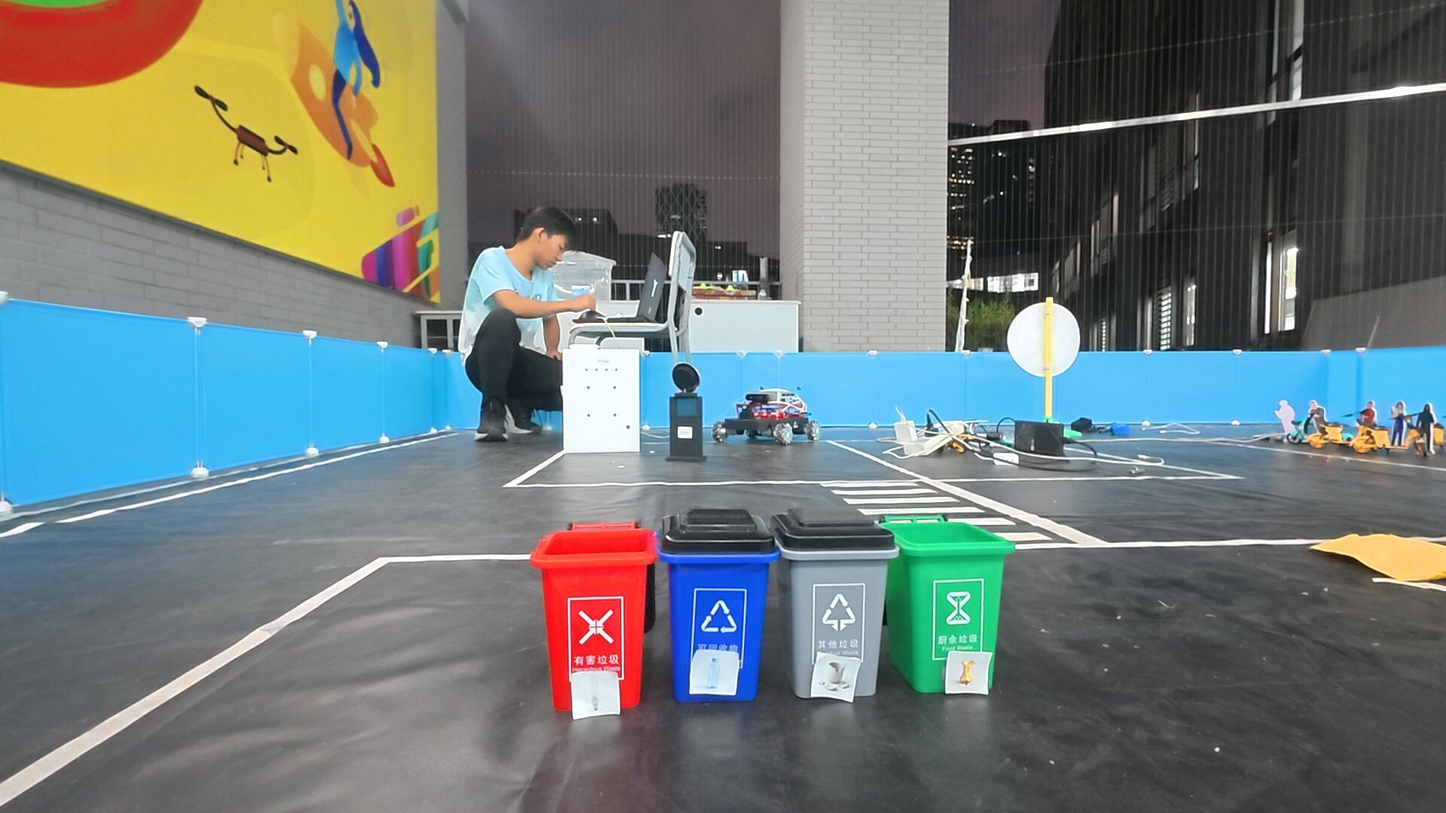food_trash: (948, 655, 986, 692)
hazardous_trash: (573, 674, 616, 715)
other_trash: (817, 656, 856, 696)
recyclable_trash: (696, 654, 734, 693)
